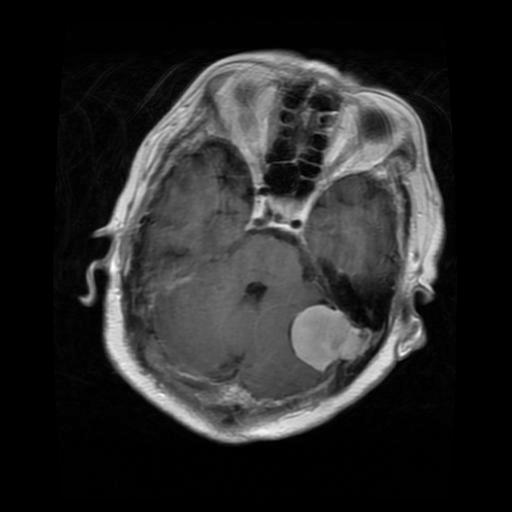Tumour-Pituitary: (272, 292, 391, 386)
